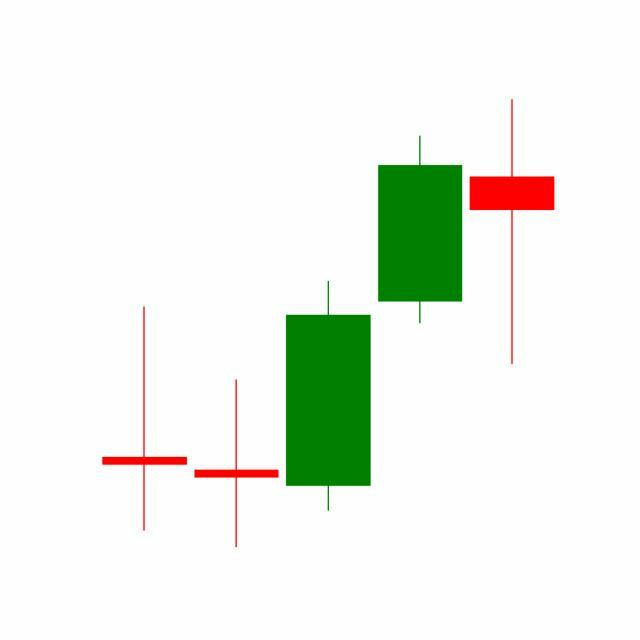Three Outside Up-Down: (190, 131, 467, 549)
